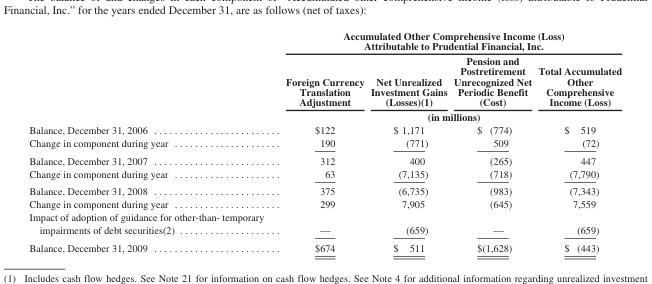table: (28, 29, 621, 252)
table column: (28, 29, 274, 252), (274, 29, 366, 252), (534, 29, 621, 252), (449, 29, 534, 252), (366, 29, 449, 252)
table column header: (28, 29, 621, 123)
table row: (28, 52, 621, 109), (28, 210, 621, 238), (28, 29, 621, 52), (28, 181, 621, 197), (28, 136, 621, 151), (28, 151, 621, 166), (28, 166, 621, 181), (28, 109, 621, 123), (28, 238, 621, 252), (28, 123, 621, 136), (28, 197, 621, 210)
table spanning cell: (274, 29, 621, 52), (274, 109, 621, 123)
